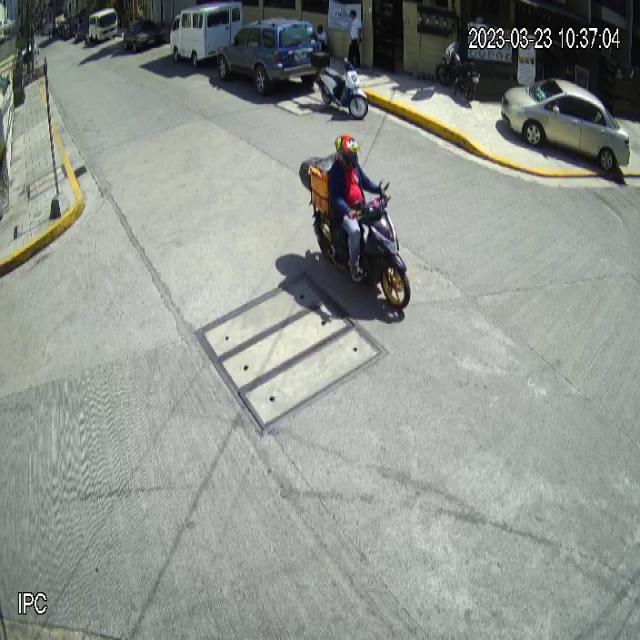Car: (501, 79, 631, 172), (217, 16, 322, 96)
Motorcycle: (310, 180, 412, 312), (311, 52, 369, 121)
Van: (170, 0, 243, 67)
